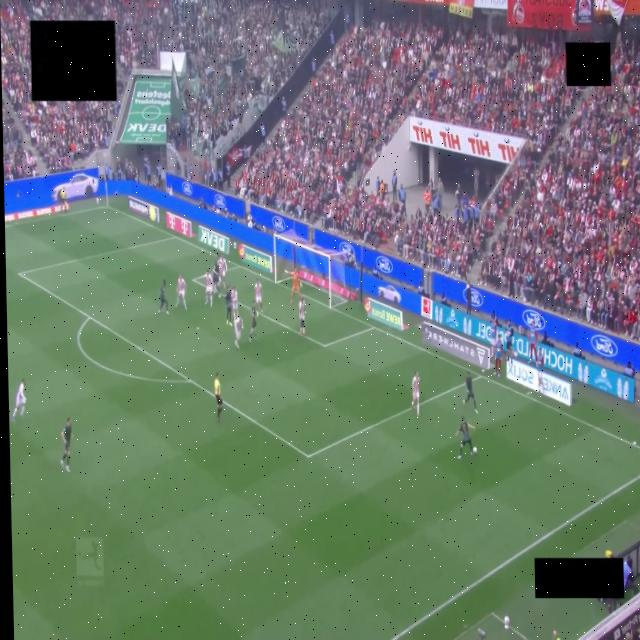ball: (472, 447, 476, 454)
player: (456, 416, 474, 460), (60, 418, 72, 472), (463, 372, 477, 414), (11, 379, 25, 420), (285, 269, 300, 303), (411, 371, 419, 415), (176, 276, 186, 310), (158, 280, 168, 314), (248, 300, 255, 343), (253, 280, 262, 312), (212, 254, 219, 294), (298, 296, 305, 336), (205, 271, 213, 305), (218, 254, 226, 288), (234, 315, 241, 349), (225, 288, 231, 325), (231, 287, 237, 318), (212, 270, 219, 296)
referee: (213, 373, 222, 423)
